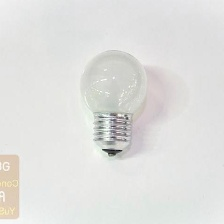light_bulb: (74, 45, 152, 160)
